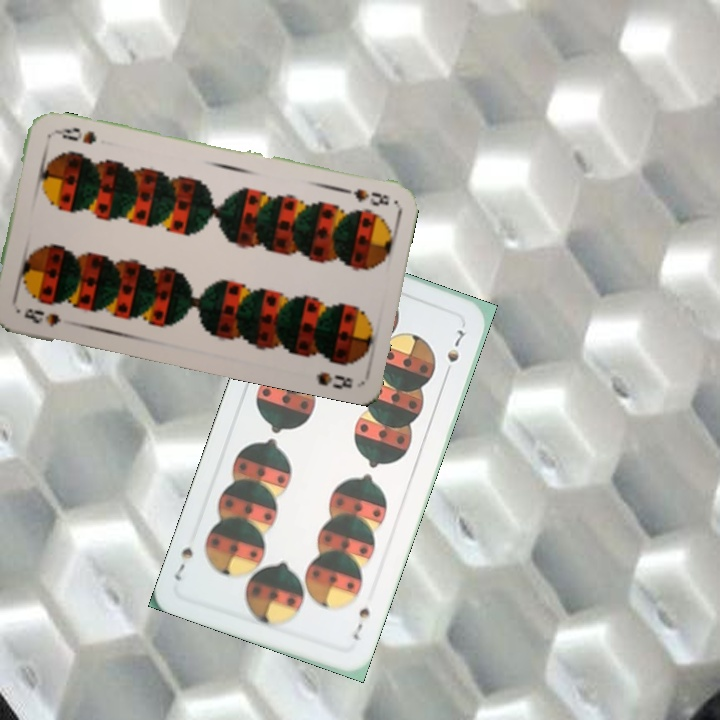S7: (349, 603, 372, 643)
S8: (335, 183, 392, 209), (20, 304, 63, 330)
